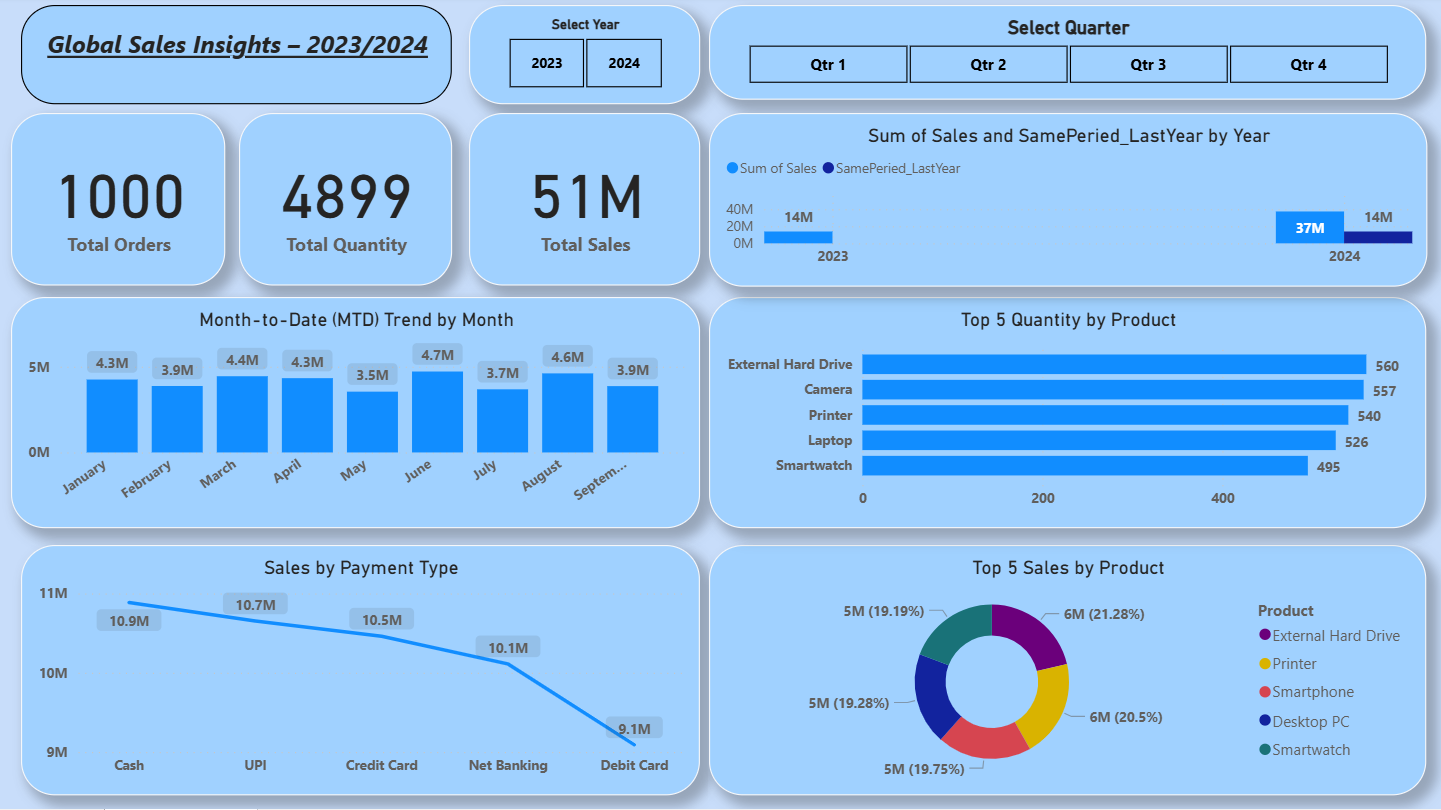

The dashboard page shown, as its layout file describes it:
{"tool":"powerbi","page":{"name":"Global Sales Insights","canvas":[1280,720],"ordinal":0},"visuals":[{"type":"slicer","title":"Select Year","fields":{"Values":["SalesData.Date.Variation.Date Hierarchy.Year"]},"box":[417.6,7.1,204.8,87.8],"z":0},{"type":"textbox","box":[20.4,7.1,382.2,87.8],"z":1},{"type":"card","fields":{"Values":["All Measures.Total Orders"]},"box":[11.5,102.9,189.8,153.4],"z":2},{"type":"card","fields":{"Values":["All Measures.Total Quantity"]},"box":[213.7,102.9,188.9,153.4],"z":3},{"type":"card","fields":{"Values":["All Measures.Total Sales"]},"box":[417.6,102.9,204.8,153.4],"z":4},{"type":"clusteredColumnChart","fields":{"Y":["All Measures.Month-to-Date (MTD) Trend"],"Category":["SalesData.Date.Variation.Date Hierarchy.Month"]},"box":[11.5,266,610.9,204.8],"z":5},{"type":"slicer","title":"Select Quarter","fields":{"Values":["SalesData.Date.Variation.Date Hierarchy.Quarter"]},"box":[630.8,6.8,635.6,83.6],"z":6},{"type":"lineChart","title":"Sales by Payment Type","fields":{"Category":["SalesData.Payment Type"],"Y":["Sum(SalesData.Sales)"]},"box":[20.4,486,601.6,221.6],"z":7},{"type":"donutChart","title":"Top 5 Sales by Product","fields":{"Category":["SalesData.Product"],"Y":["Sum(SalesData.Sales)"]},"box":[630.8,486,635.6,221.6],"z":8},{"type":"clusteredBarChart","title":"Top 5 Quantity by Product","fields":{"Category":["SalesData.Product"],"Y":["Sum(SalesData.Quantity)"]},"box":[630.4,266,635.8,204.8],"z":9},{"type":"clusteredColumnChart","fields":{"Y":["Sum(SalesData.Sales)","All Measures.SamePeried_LastYear"],"Category":["SalesData.Date.Variation.Date Hierarchy.Year"]},"box":[630.8,103,636.6,153.6],"z":10}]}

Visuals, with their boxes in screenshot pixels (x1, y1, x2, y2), scaled from the page's 1280x720 canvas onto the 1441x810 screenshot:
"Select Year" slicer: 470,8,701,107
textbox: 23,8,453,107
card - All Measures.Total Orders: 13,116,227,288
card - All Measures.Total Quantity: 241,116,453,288
card - All Measures.Total Sales: 470,116,701,288
clusteredColumnChart - All Measures.Month-to-Date (MTD) Trend x SalesData.Date.Variation.Date Hierarchy.Month: 13,299,701,530
"Select Quarter" slicer: 710,8,1426,102
"Sales by Payment Type" lineChart: 23,547,700,796
"Top 5 Sales by Product" donutChart: 710,547,1426,796
"Top 5 Quantity by Product" clusteredBarChart: 710,299,1425,530
clusteredColumnChart - Sum(SalesData.Sales) x All Measures.SamePeried_LastYear: 710,116,1427,289
